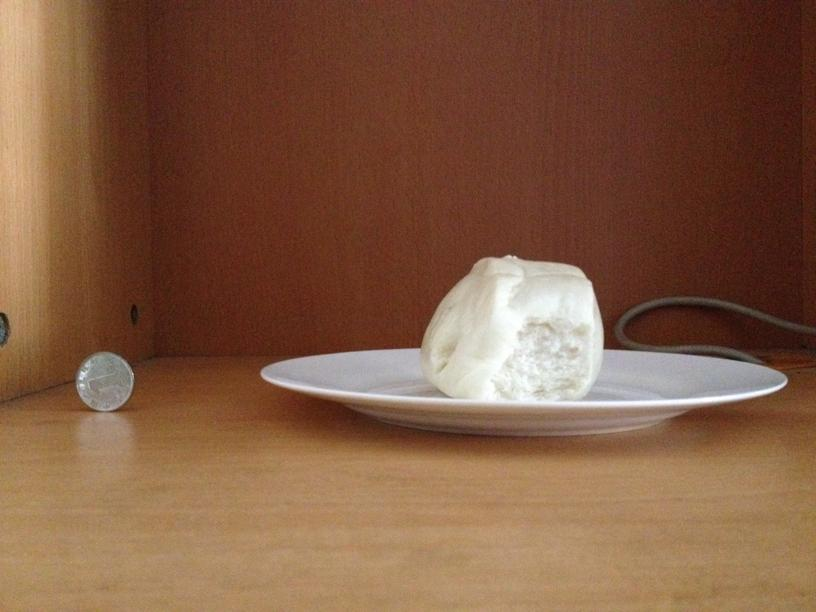bun: (418, 252, 607, 402)
coin: (78, 349, 133, 413)
